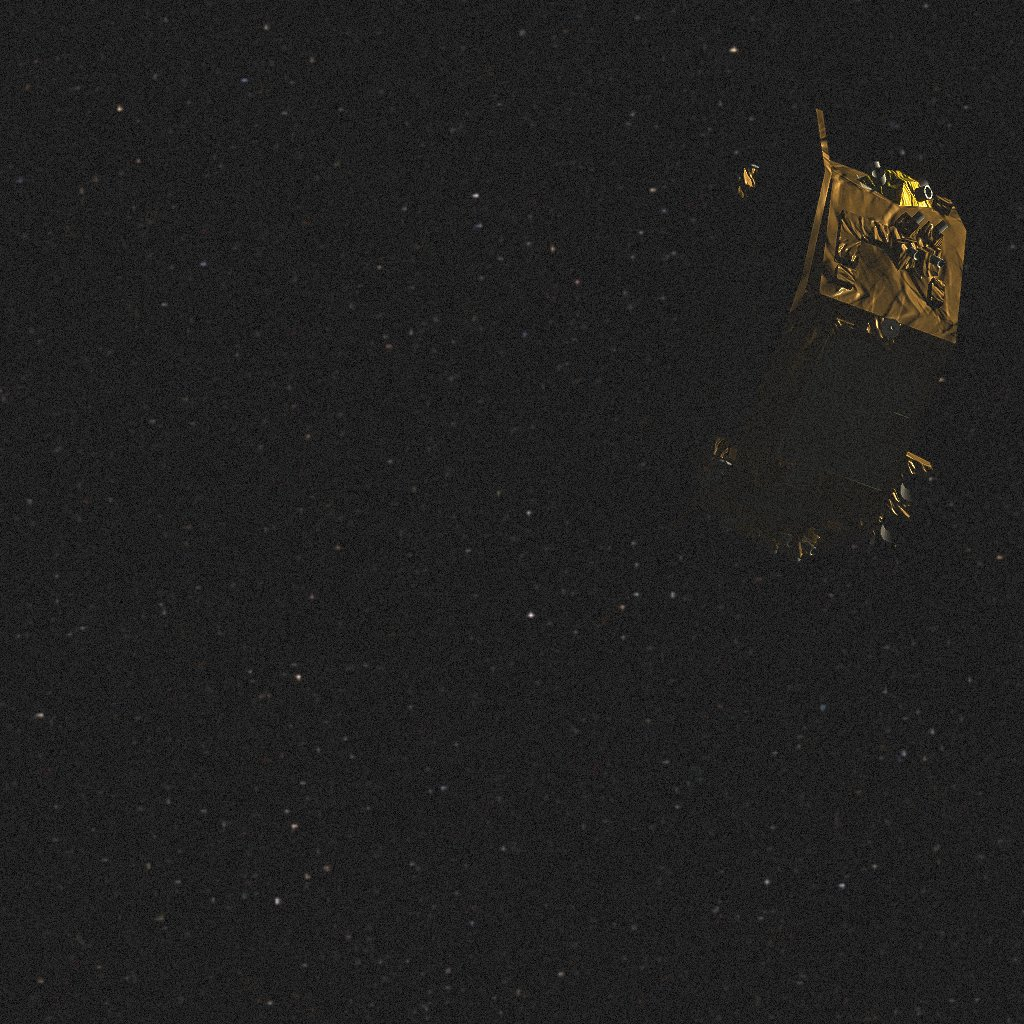lisa_pathfinder: (642, 108, 966, 563)
